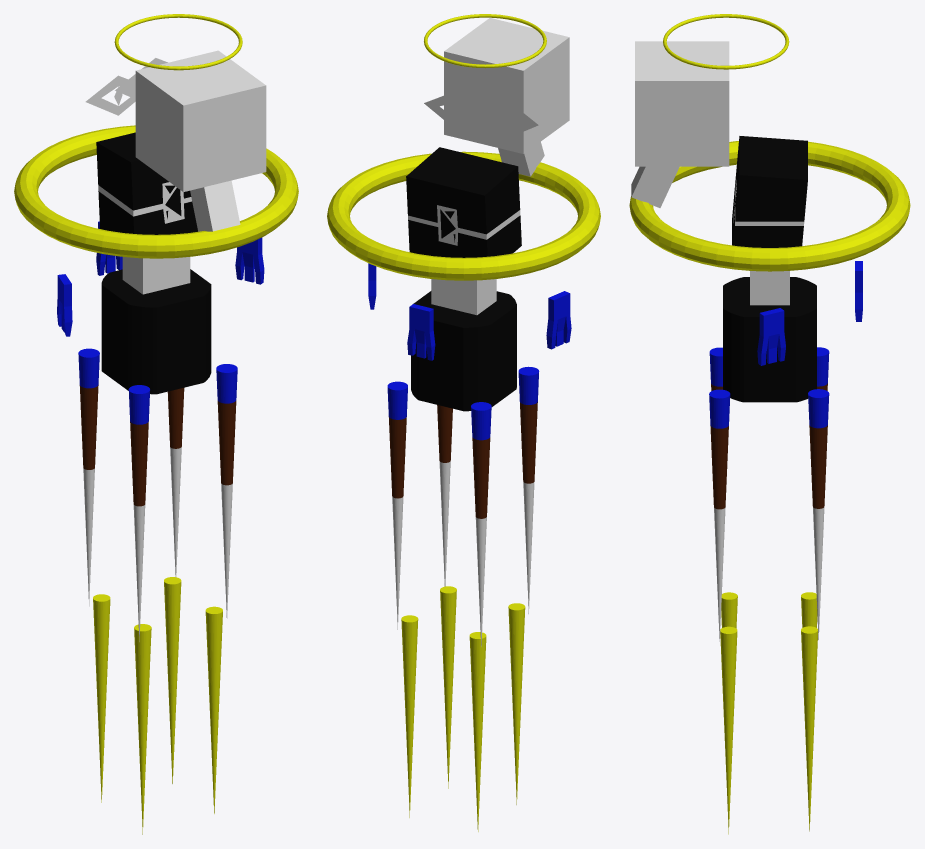
Rendered from Князь.fbx.
3 views of the same model, side by side, from view 1: azimuth 30°, elevation 25°; view 2: azimuth 150°, elevation 25°; view 3: azimuth 270°, elevation 25° (orthographic). The views are drawn at different scales.
Visible parts, largest first — view 1: Cube; view 2: Cube; view 3: Cube.
Part boxes in pixels (left/top/right/bottom): Cube: left=14, top=14, right=298, bottom=834; Cube: left=327, top=14, right=600, bottom=831; Cube: left=629, top=14, right=910, bottom=834.
Size of the model in its own units: 596 by 1818 by 596.
